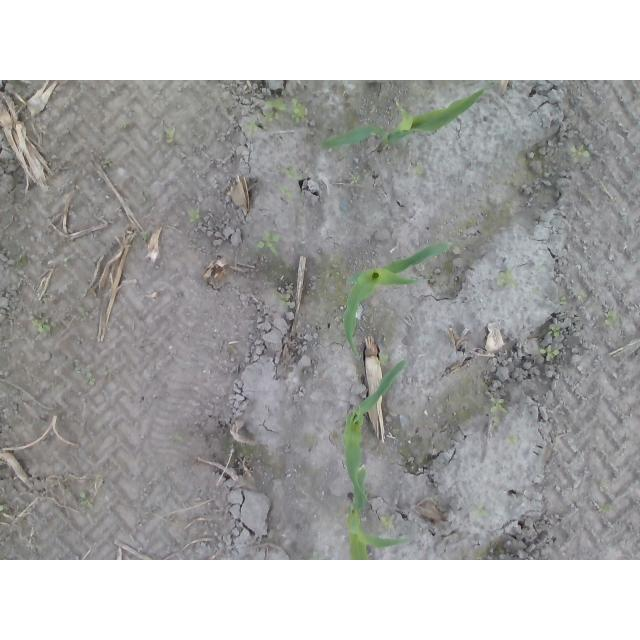Maize: (342, 241, 452, 349), (319, 86, 486, 150), (341, 357, 407, 511), (347, 492, 410, 561)
Weeds: (264, 97, 308, 124), (256, 230, 281, 255), (568, 144, 591, 165), (30, 319, 51, 336), (542, 345, 561, 362), (490, 397, 506, 416), (603, 310, 618, 326), (499, 270, 514, 286), (80, 491, 93, 509), (188, 207, 201, 224), (287, 168, 304, 181), (280, 186, 297, 199), (381, 516, 396, 530), (242, 121, 258, 132), (82, 373, 96, 385), (548, 326, 561, 338), (505, 436, 521, 445), (378, 355, 390, 366), (353, 175, 364, 184), (561, 296, 568, 305)
